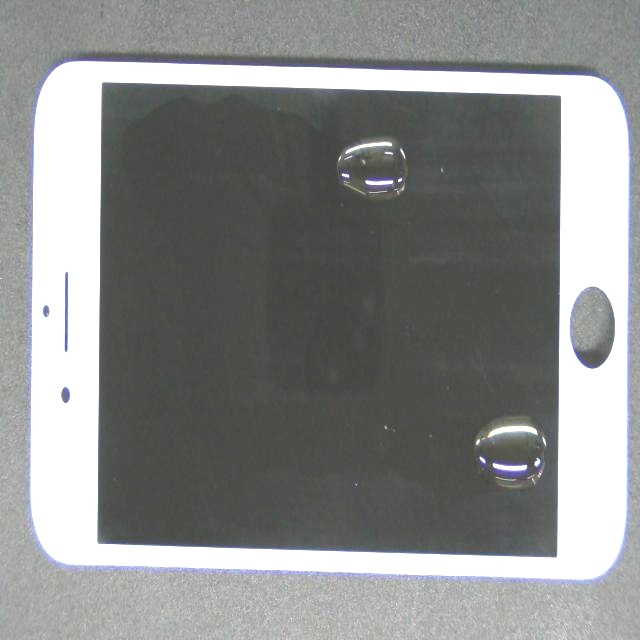oil: (283, 172, 640, 622), (238, 102, 618, 234)
